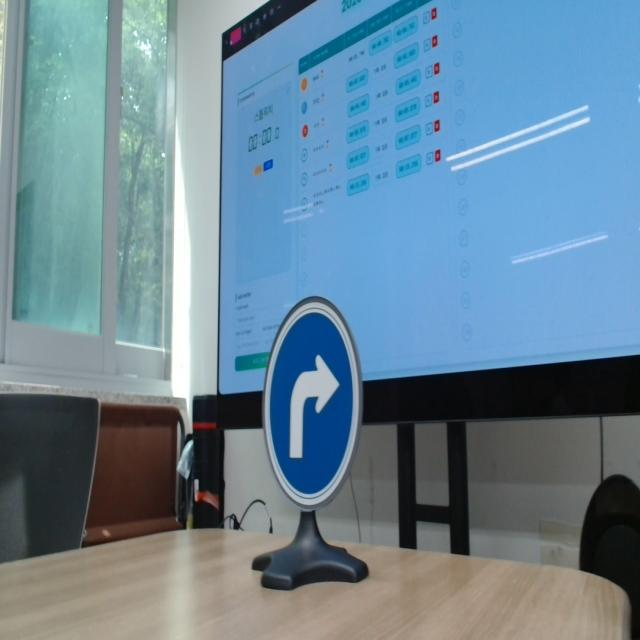right_dierection: (255, 286, 362, 504)
